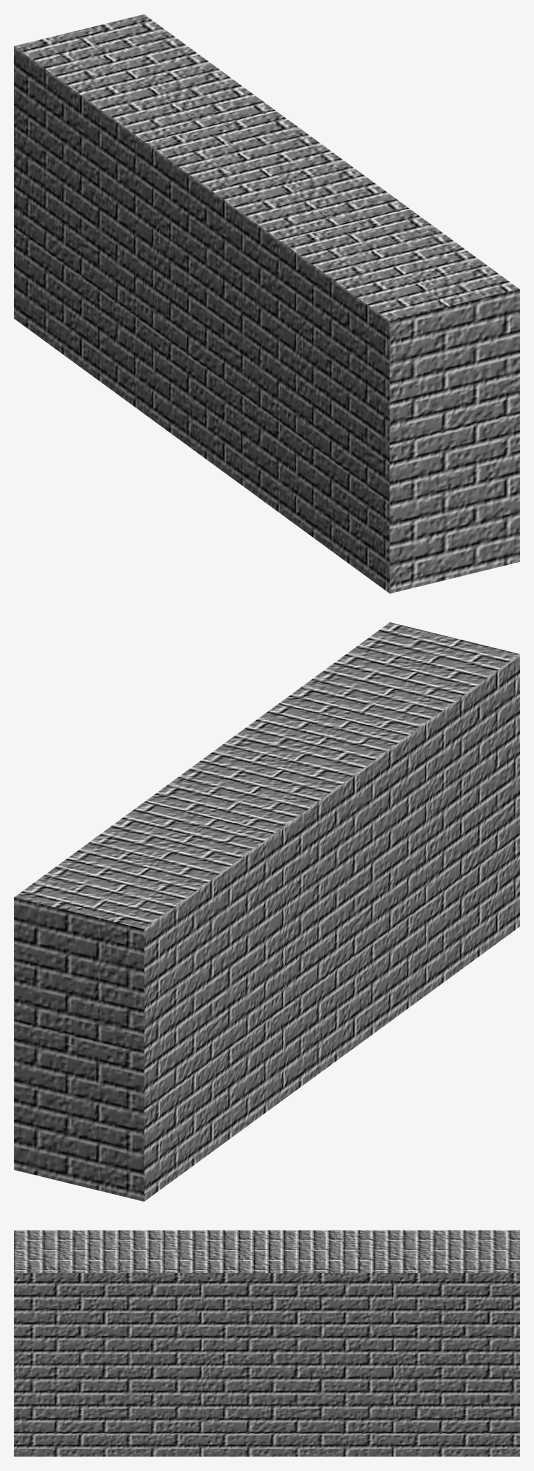
The model's file is itemwall.fbx.
The picture shows the model from 3 angles, top to bottom: view 1: azimuth 30°, elevation 25°; view 2: azimuth 150°, elevation 25°; view 3: azimuth 270°, elevation 25°; orthographic projection. The views are drawn at different scales.
Parts seen in each view (by area): view 1: obj1; view 2: obj1; view 3: obj1.
Boxes of the visible parts, left/top/right/bottom form: obj1: left=14, top=14, right=519, bottom=593; obj1: left=14, top=622, right=519, bottom=1201; obj1: left=14, top=1230, right=519, bottom=1456.
Bounding box in the file's own units: 10 × 20 × 50.
